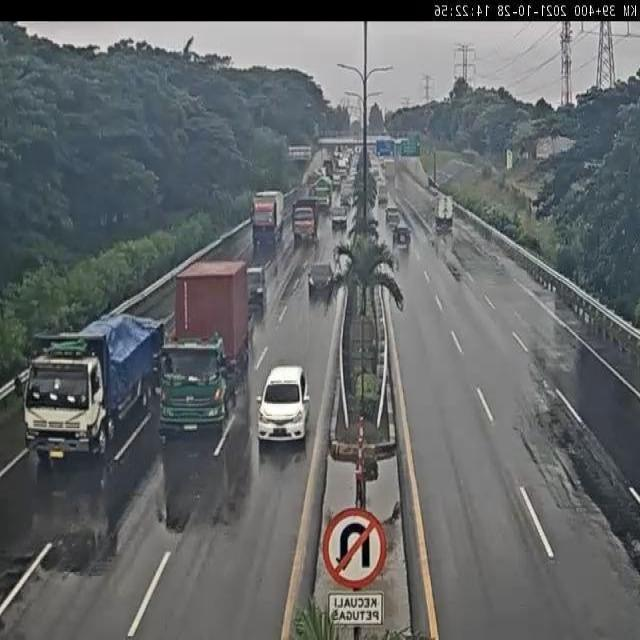Car: (256, 364, 310, 444), (308, 263, 332, 296), (386, 205, 400, 228), (337, 174, 349, 197), (374, 171, 385, 195)
Truck: (23, 314, 163, 460), (157, 260, 245, 434), (251, 190, 285, 252), (291, 197, 319, 244), (435, 194, 454, 233), (331, 204, 348, 230)
